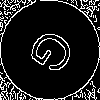G: (25, 25, 86, 84)
